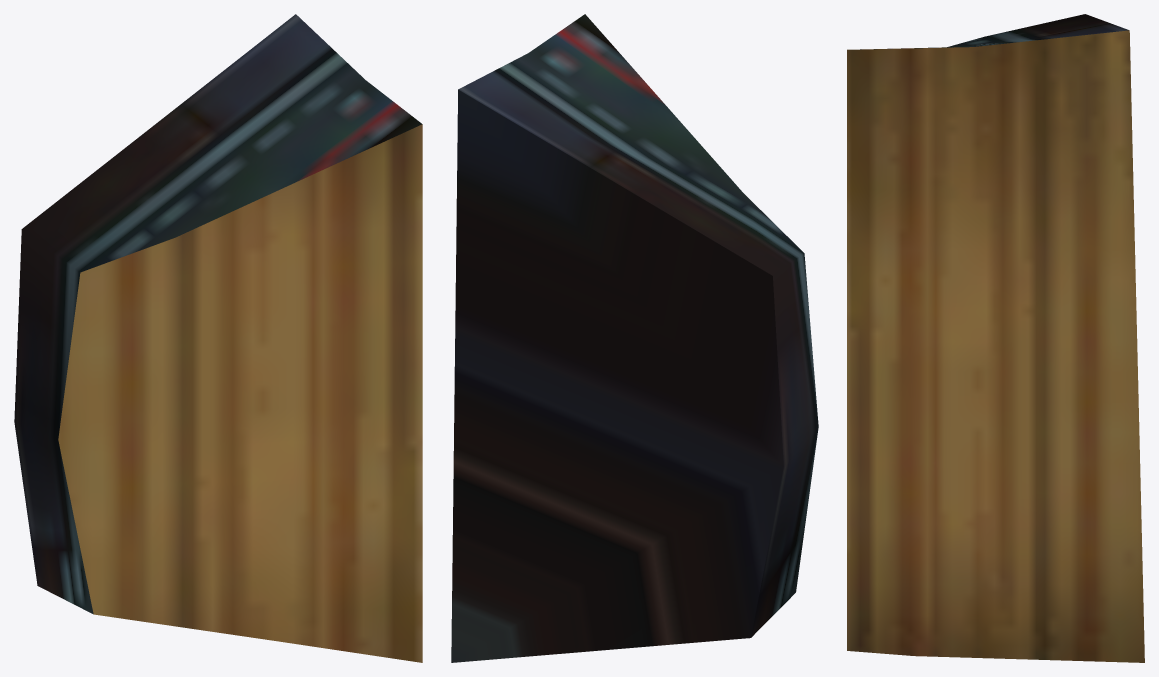
File: Skill_Cowboy_01_Broken_04_e52ba394__Skill_Cowboy_01_Broken_4a527cb7_c1f257.obj
3 renders of one model, left to right at view 1: azimuth 30°, elevation 25°; view 2: azimuth 150°, elevation 25°; view 3: azimuth 270°, elevation 25°, orthographic. The views are drawn at different scales.
Size of the model in its own units: 0.2256 by 0.4032 by 0.1721.
1 material, 1 textured.
